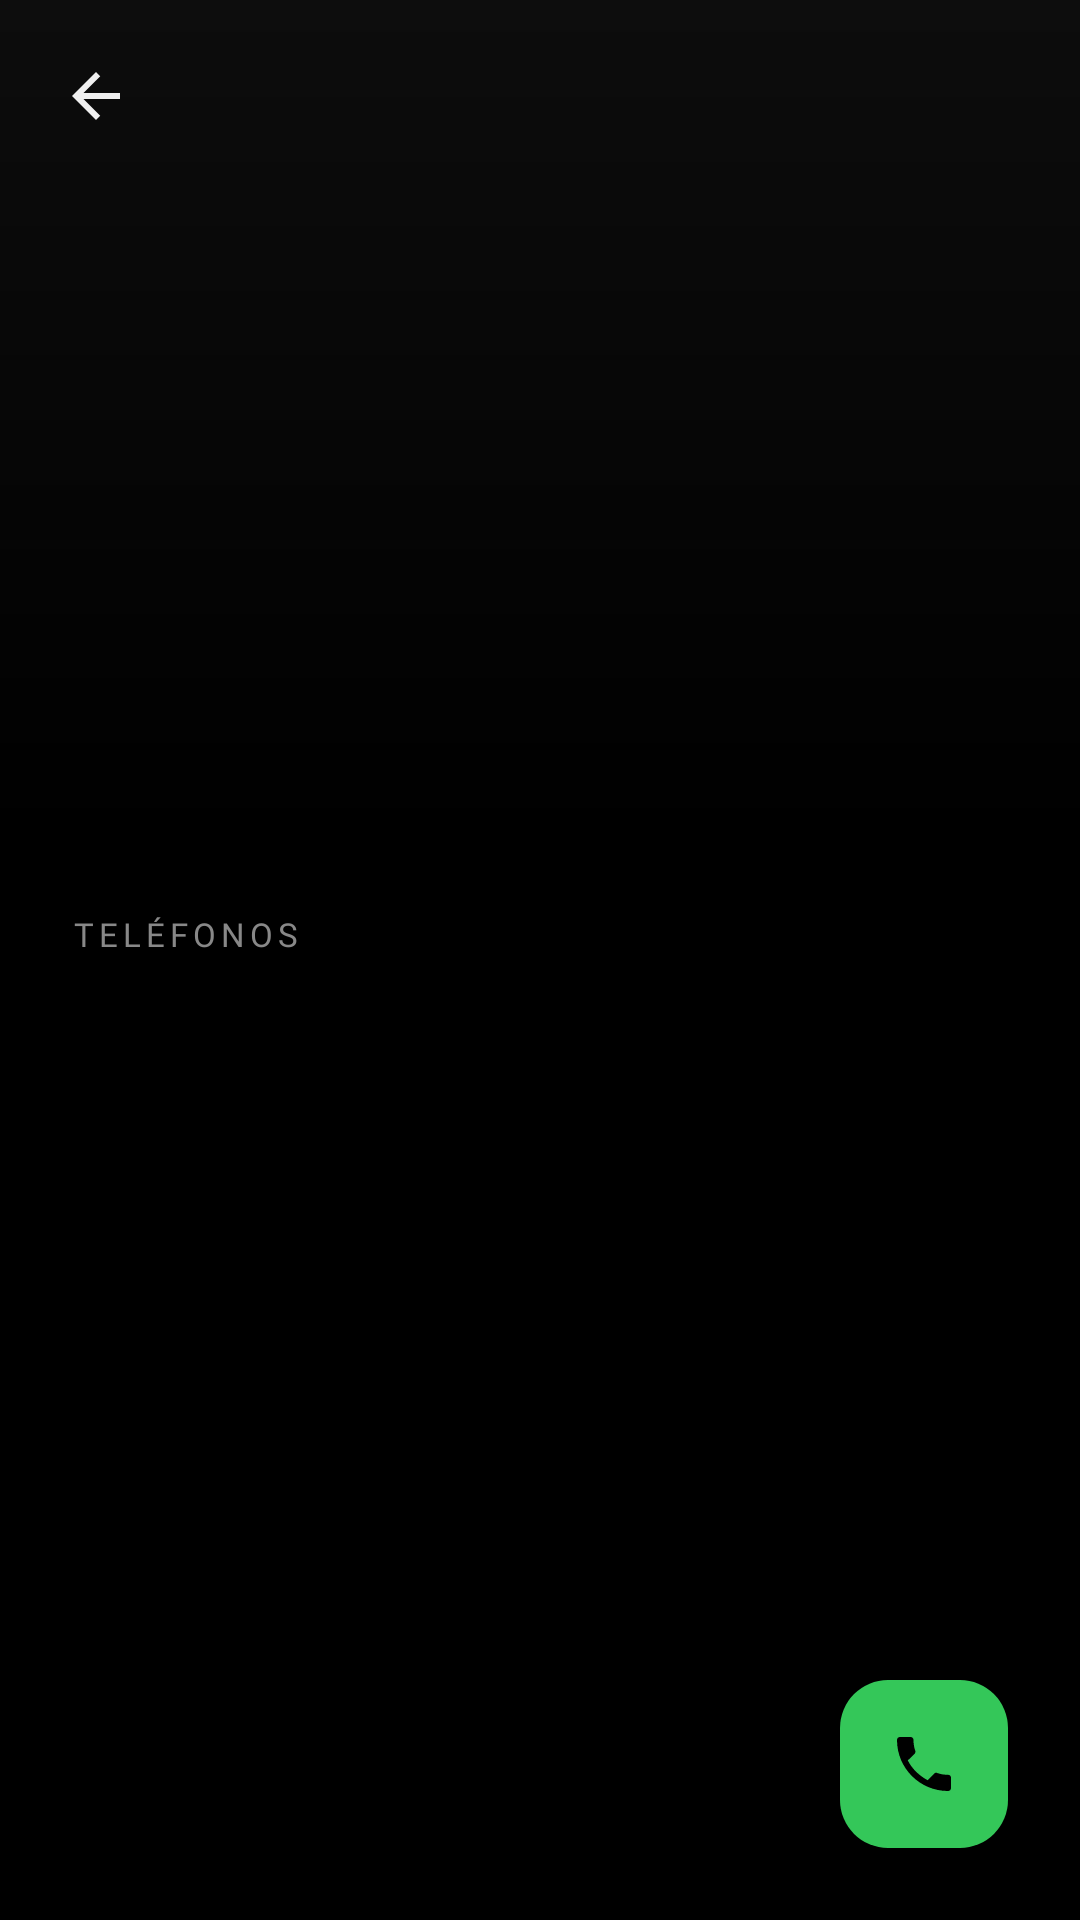

Icons on this 1080w x 1920h Android screen, each with the point to tap as (x,y):
Atrás: (96,96)
Llamar: (924,1764)
